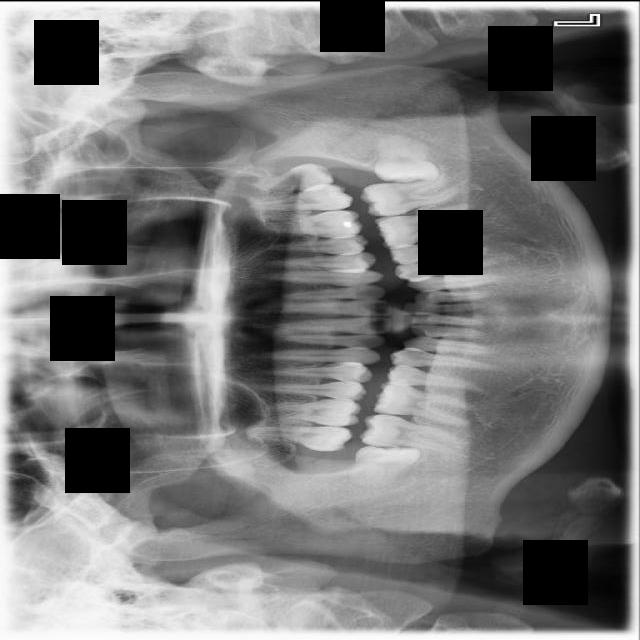52: (312, 208, 364, 239)
73: (592, 32, 606, 42)
BioHorizons Implant: (243, 182, 353, 213)
BioLife Implant: (248, 160, 336, 195)
Biomet 3i Implant: (373, 134, 442, 183)
Blue Sky Bio Implant: (358, 169, 464, 221)
Caries: (244, 420, 353, 453)
Implant: (357, 410, 462, 456)
Keystone Dental Implant: (347, 442, 419, 491)
